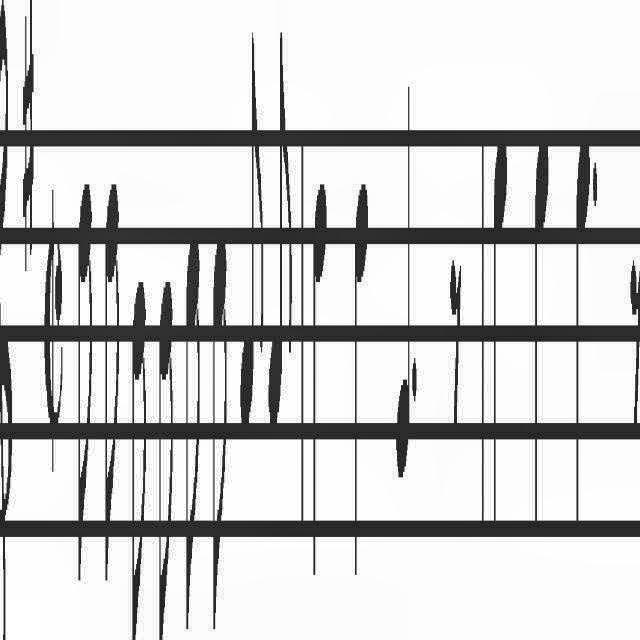Bass-clef: (0, 0, 16, 640)
Diez: (18, 22, 38, 274)
Eighth-note: (238, 19, 266, 457), (268, 0, 294, 456), (209, 216, 231, 640), (179, 211, 200, 640), (128, 232, 150, 640), (74, 149, 94, 587), (102, 162, 122, 582), (154, 244, 173, 640)
Eighth-rest: (447, 224, 465, 460), (627, 239, 640, 472), (639, 239, 640, 472)
Quarter-note: (530, 97, 552, 561), (390, 47, 410, 526), (348, 156, 368, 624), (572, 95, 592, 538), (490, 135, 510, 559), (312, 146, 328, 626)
